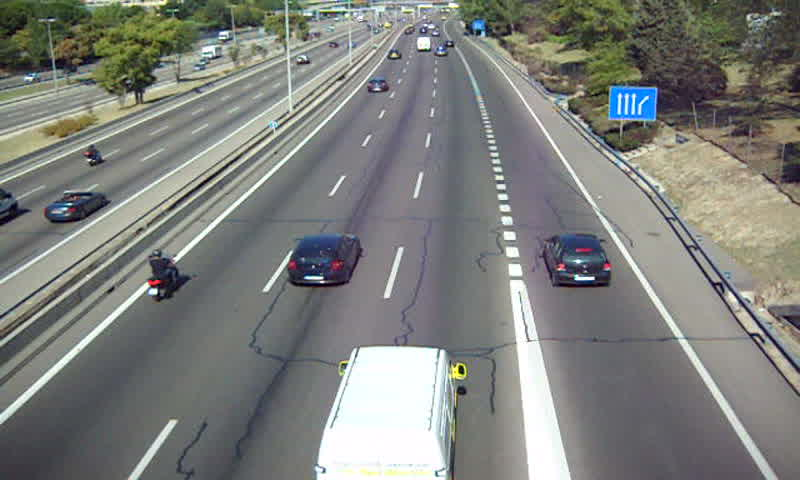car: (287, 232, 359, 285), (545, 234, 610, 285), (366, 78, 390, 96)
motorcycle: (144, 249, 181, 304)
van: (314, 347, 456, 480)
